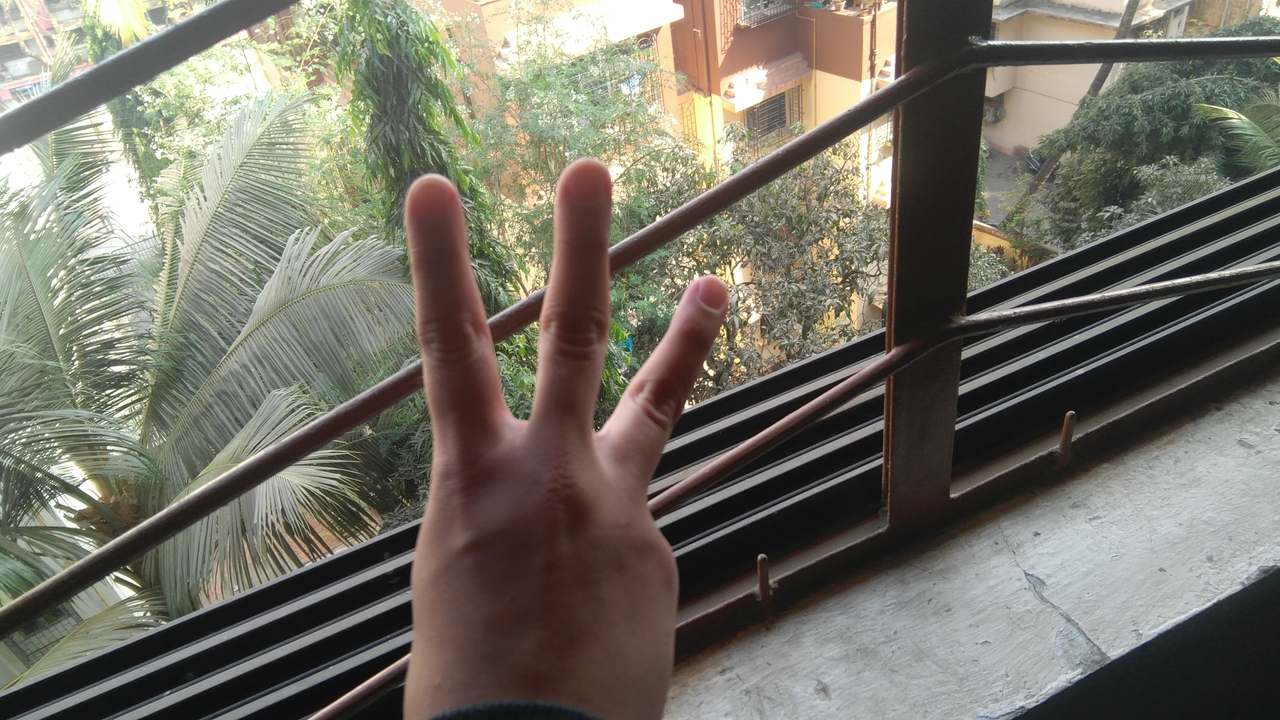fingertip: (394, 168, 460, 232), (670, 268, 734, 330), (550, 154, 610, 214)
